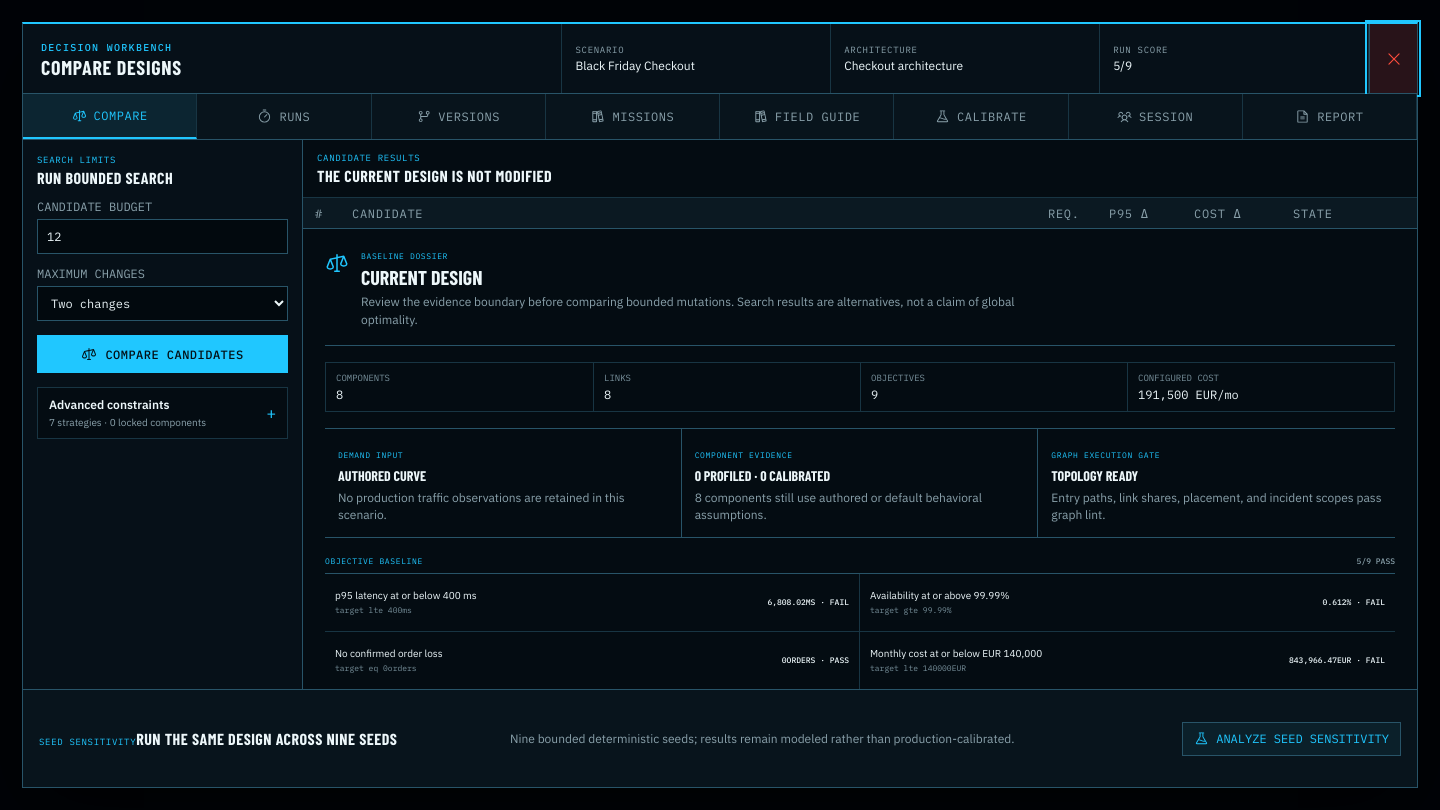
Test case: completed-run decision workbench › disables replay-bundle export for private interviewer runs
Click the tab "Report".
click(1330, 116)  # box x1=1243 y1=94 x2=1417 y2=139
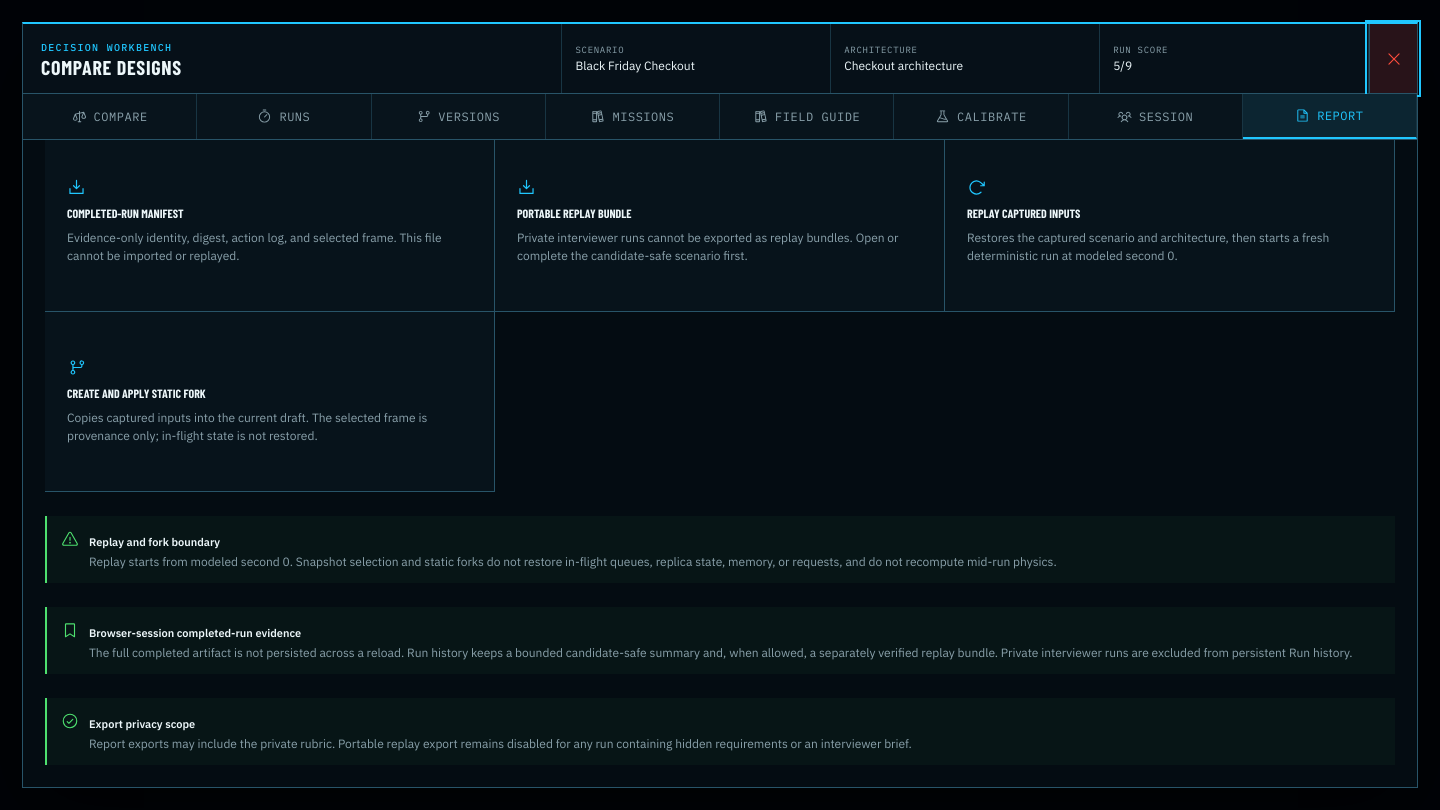
Check: the button "Portable replay bundle" is disabled, box x1=495 y1=140 x2=945 y2=312
Check: the button "Portable replay bundle" shows "Private interviewer runs cannot be exported as replay bundles", box x1=495 y1=140 x2=945 y2=312
Check: the text "Portable replay export remains disabled for any run containing hidden requirements" is shown, box x1=89 y1=736 x2=912 y2=751
